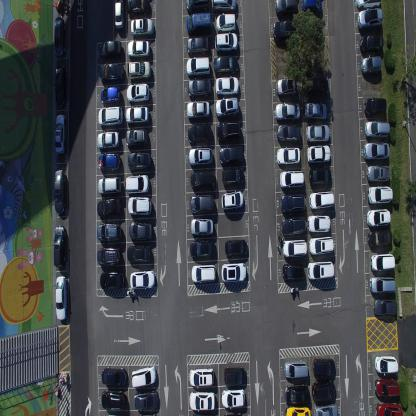car: (53, 168, 66, 216), (357, 7, 383, 31), (55, 275, 68, 321), (186, 12, 212, 35), (273, 19, 299, 42), (307, 259, 334, 281), (363, 140, 390, 162), (131, 365, 156, 388), (100, 388, 126, 410), (220, 261, 246, 283), (98, 105, 124, 127), (188, 391, 216, 411), (190, 193, 214, 216), (126, 173, 150, 196), (215, 96, 239, 119), (190, 170, 215, 192), (219, 144, 244, 166), (130, 268, 156, 289), (133, 390, 159, 411), (213, 54, 239, 75), (308, 235, 334, 256), (280, 193, 306, 214), (53, 17, 66, 58), (54, 226, 66, 270), (96, 129, 120, 151), (125, 104, 149, 126), (186, 56, 210, 78), (360, 32, 384, 54), (221, 387, 246, 408), (187, 123, 212, 144), (216, 121, 241, 142), (281, 215, 306, 236), (188, 366, 214, 386), (374, 378, 400, 398), (98, 62, 124, 82), (367, 184, 393, 204), (54, 113, 66, 156), (54, 64, 66, 107), (312, 380, 335, 402), (128, 196, 152, 217), (99, 176, 123, 197), (98, 198, 122, 219), (191, 262, 215, 283), (126, 82, 150, 103), (98, 39, 122, 60), (188, 146, 212, 167), (214, 32, 238, 53), (101, 270, 126, 290), (284, 384, 309, 404), (102, 366, 127, 386), (130, 16, 155, 36), (127, 60, 152, 80), (275, 101, 300, 121), (279, 168, 304, 188), (309, 190, 334, 210), (364, 120, 390, 139), (370, 275, 396, 294), (98, 152, 121, 173), (304, 100, 327, 121), (309, 165, 332, 186), (191, 238, 215, 258), (129, 220, 153, 240), (98, 223, 122, 243), (128, 152, 152, 172), (126, 38, 150, 58), (186, 100, 210, 120), (215, 76, 239, 96), (188, 78, 212, 98), (306, 122, 330, 142), (276, 146, 300, 166), (283, 238, 307, 258), (127, 244, 152, 263), (276, 123, 301, 142), (373, 298, 398, 317), (126, 127, 148, 148), (100, 84, 121, 106), (360, 55, 382, 76), (364, 96, 386, 117), (99, 246, 122, 266), (312, 358, 335, 378), (221, 190, 244, 210), (224, 238, 247, 258), (221, 166, 244, 186), (186, 35, 209, 55), (307, 213, 330, 233), (190, 217, 214, 236), (284, 359, 308, 378), (305, 77, 329, 96), (307, 144, 331, 163), (366, 164, 390, 183), (366, 208, 391, 226), (370, 252, 395, 270), (215, 12, 237, 32), (223, 366, 246, 385), (282, 262, 305, 281), (374, 356, 398, 374), (368, 229, 392, 247), (276, 77, 298, 96), (274, 0, 298, 17), (376, 401, 403, 415), (114, 0, 126, 30), (127, 0, 150, 15), (211, 0, 237, 13), (301, 0, 322, 16), (313, 403, 338, 415), (185, 0, 210, 12), (284, 404, 311, 415), (355, 0, 381, 10)
